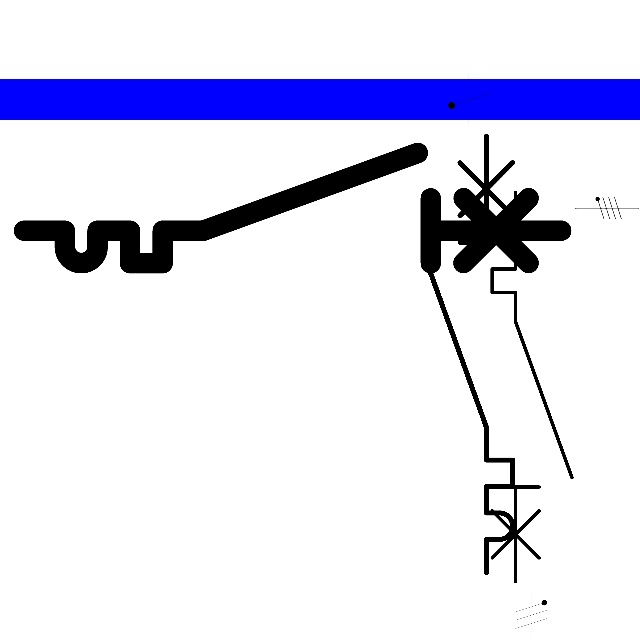interruptor_termomagnetico: (10, 139, 575, 277), (412, 124, 524, 583), (482, 182, 582, 592)
